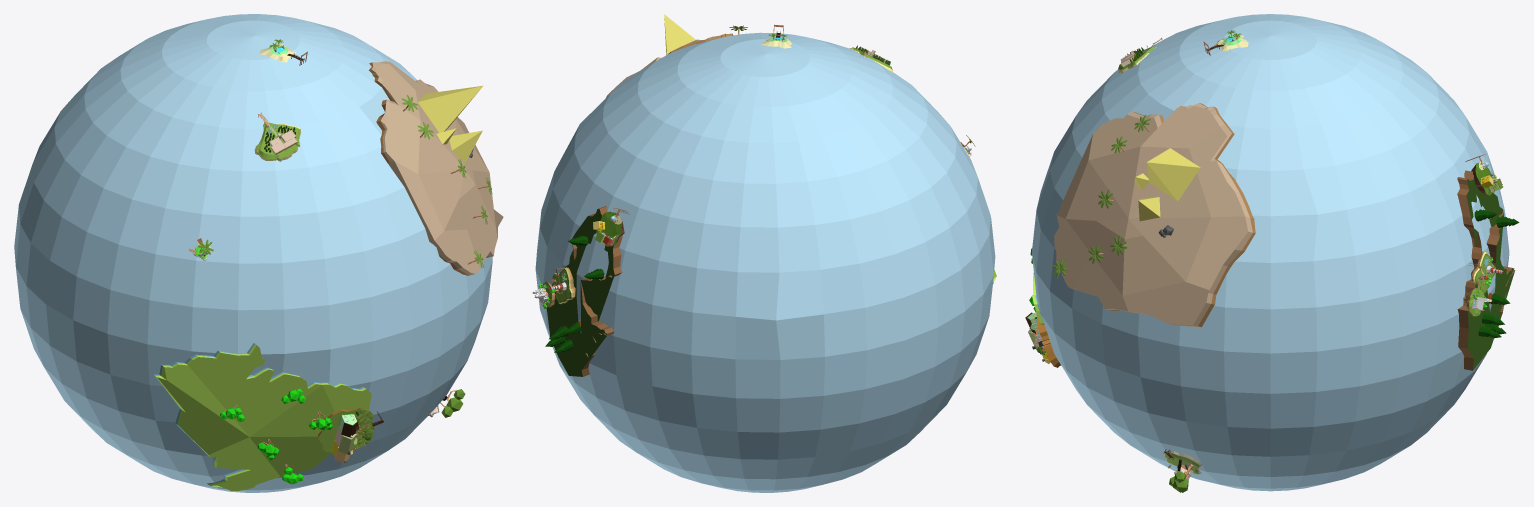
Rendered from Mapa_redondo (1).fbx.
The picture shows the model from 3 angles, left to right: view 1: azimuth 30°, elevation 25°; view 2: azimuth 150°, elevation 25°; view 3: azimuth 270°, elevation 25°; orthographic projection. The views are drawn at different scales.
Parts seen in each view (by area): view 1: MUNDO, Mapa_Brasil, DESERTO, BRASIL, SANTACRUZ, MADEIRA; view 2: MUNDO, Cadiz, DESERTO; view 3: MUNDO, DESERTO, Cadiz, SANTA_HELENA, BRASIL.
Boxes of the visible parts, bbox=[...] form: MUNDO: bbox=[14, 14, 492, 492]; Mapa_Brasil: bbox=[154, 343, 371, 490]; DESERTO: bbox=[369, 61, 503, 275]; BRASIL: bbox=[318, 408, 384, 463]; SANTACRUZ: bbox=[254, 112, 300, 161]; MADEIRA: bbox=[260, 39, 307, 65]; MUNDO: bbox=[535, 32, 995, 492]; Cadiz: bbox=[532, 206, 629, 376]; DESERTO: bbox=[606, 14, 747, 97]; MUNDO: bbox=[1031, 14, 1509, 491]; DESERTO: bbox=[1052, 103, 1255, 327]; Cadiz: bbox=[1457, 154, 1519, 370]; SANTA_HELENA: bbox=[1163, 449, 1202, 492]; BRASIL: bbox=[1025, 312, 1061, 367].
Size of the model in its own units: 30296 by 30681 by 31354.
